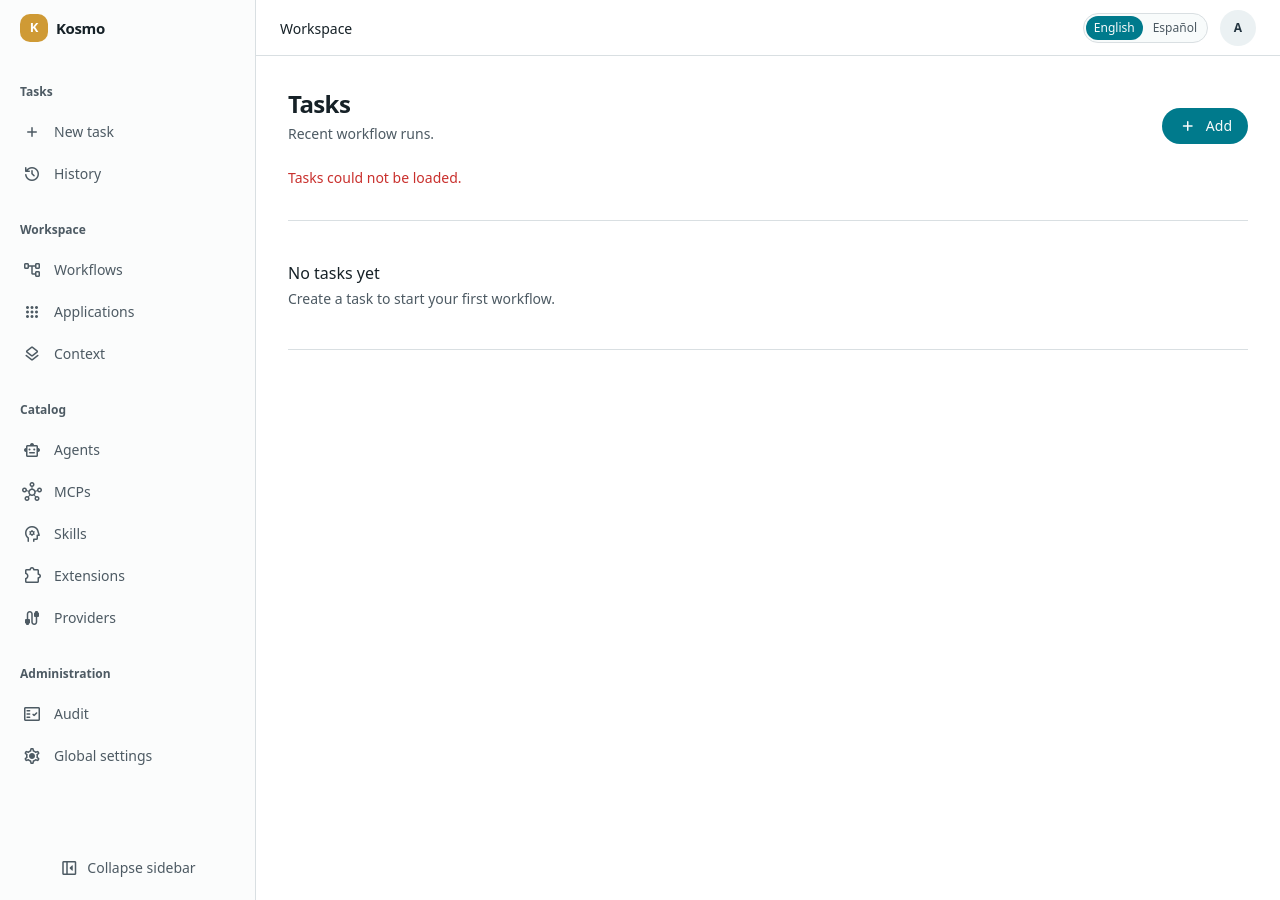
Test case: app shell and routes › signs out from the user menu and lands on the login page
Click the button named "User menu" at (1238, 28), box [1220,10,1256,46]
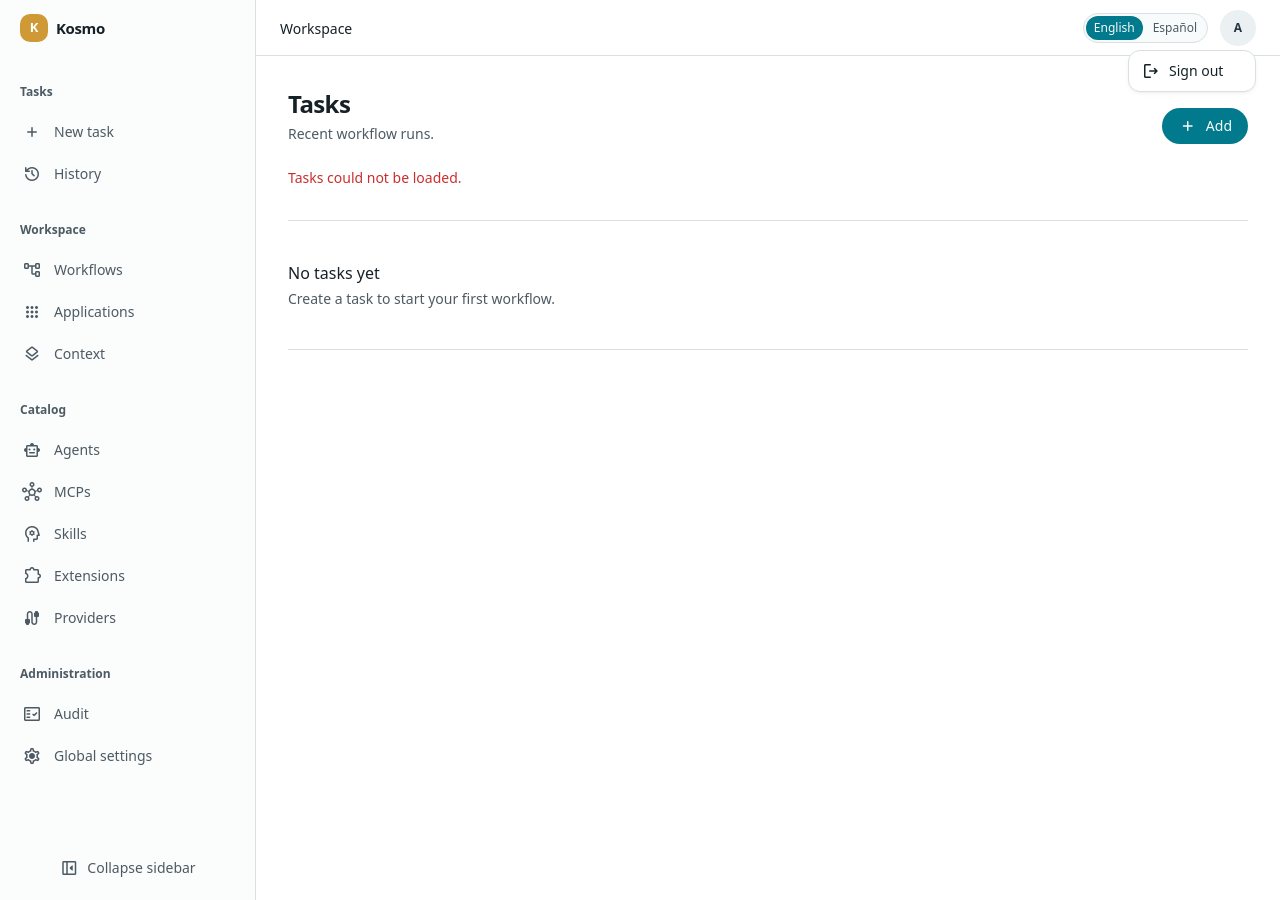
Click the menu item "Sign out" at (1182, 71), box [1141,59,1223,83]
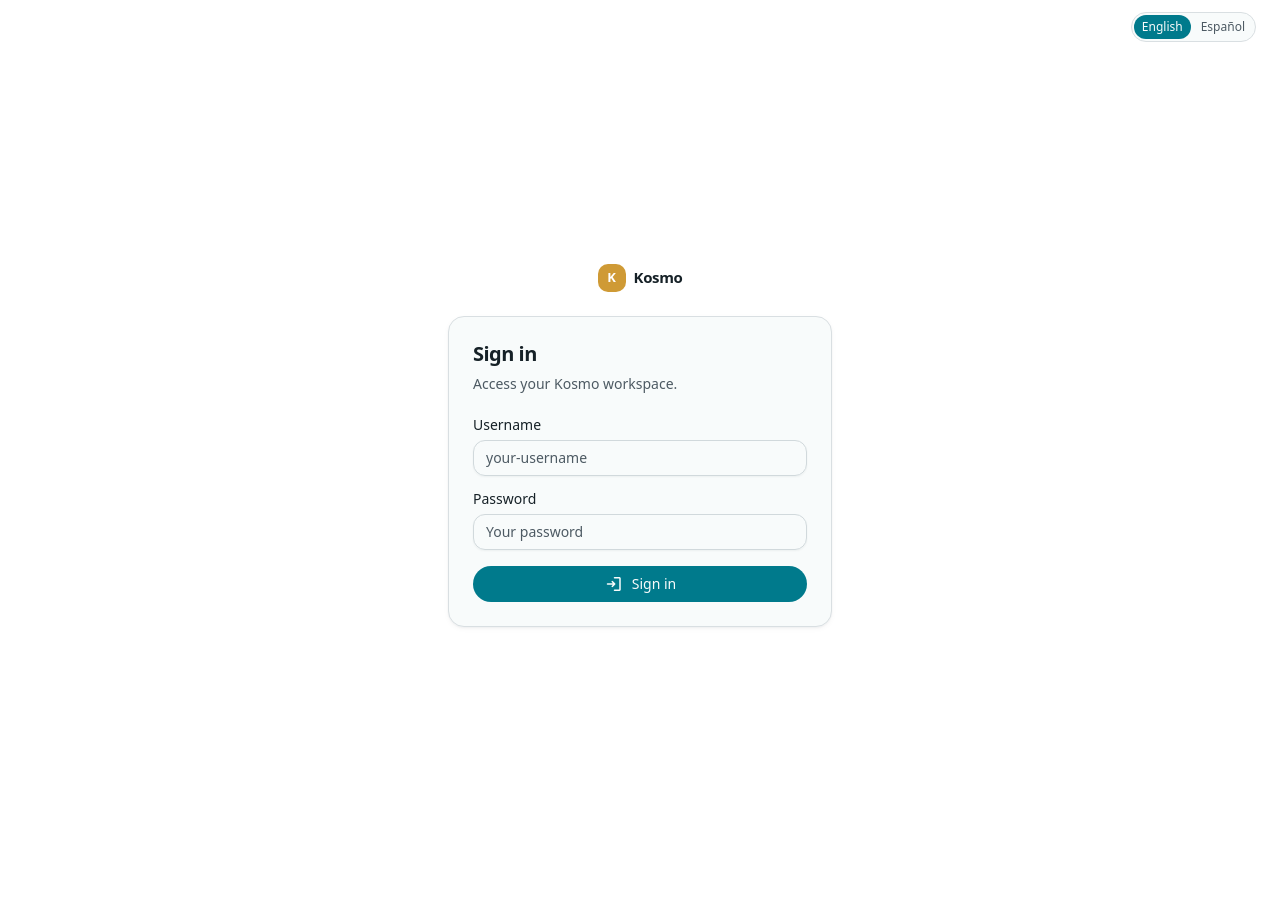
Expected: the heading "Sign in" is shown, [473,340,537,366]
